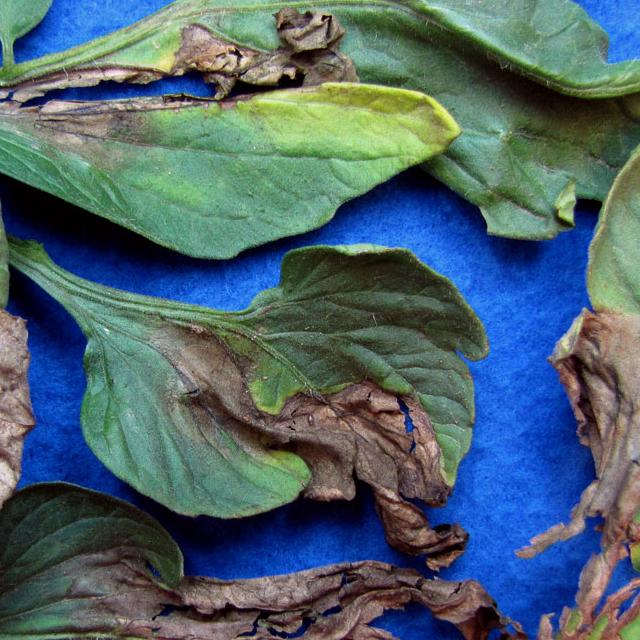Tomato leaf late blight: (31, 238, 502, 518), (0, 0, 434, 253), (0, 475, 497, 640), (526, 0, 640, 640), (0, 0, 39, 615)
